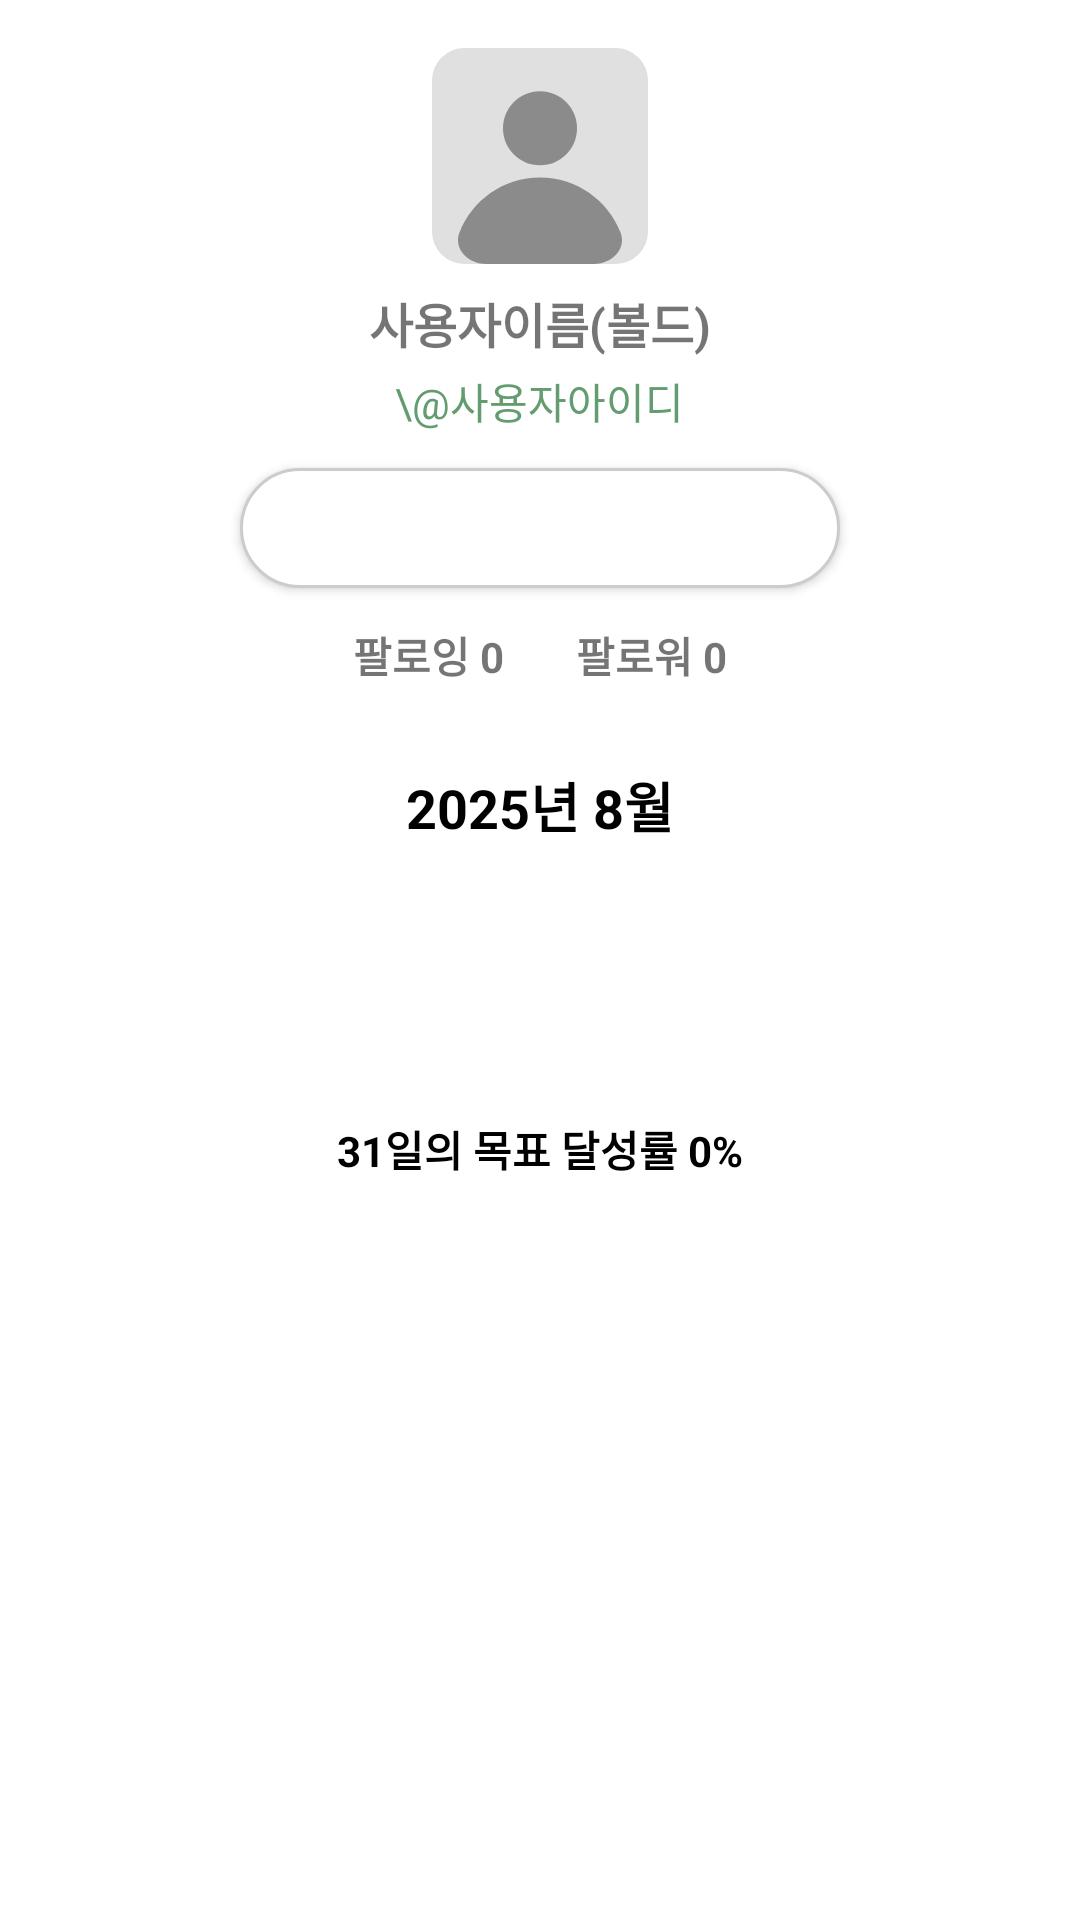

Named icons in this screenshot (1080x1920) and their bounding boxes, (x1, y1, x2, y2):
프로필 이미지: (432, 48, 648, 264)
